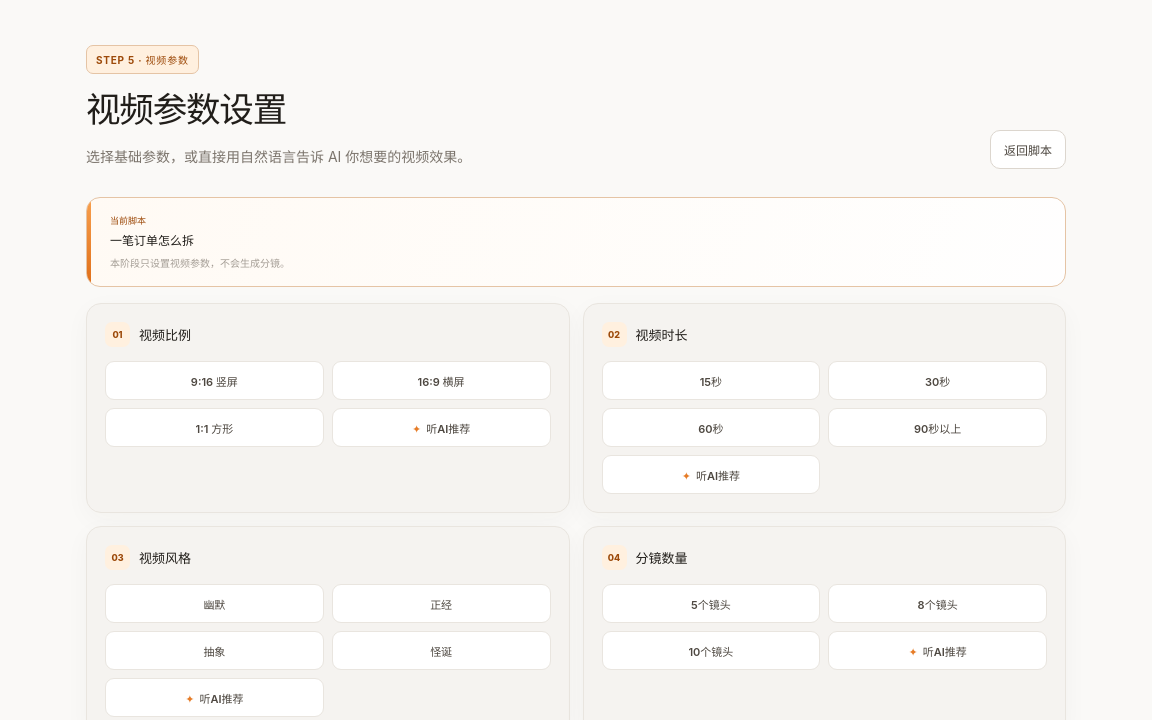
Test: AI 失败页面状态 › Step5 AI 推荐失败时不显示固定参数或采用成功
Click the button "✦听AI推荐" below "视频比例". click: (441, 428)
box: [332, 408, 551, 447]
(page scrolled)
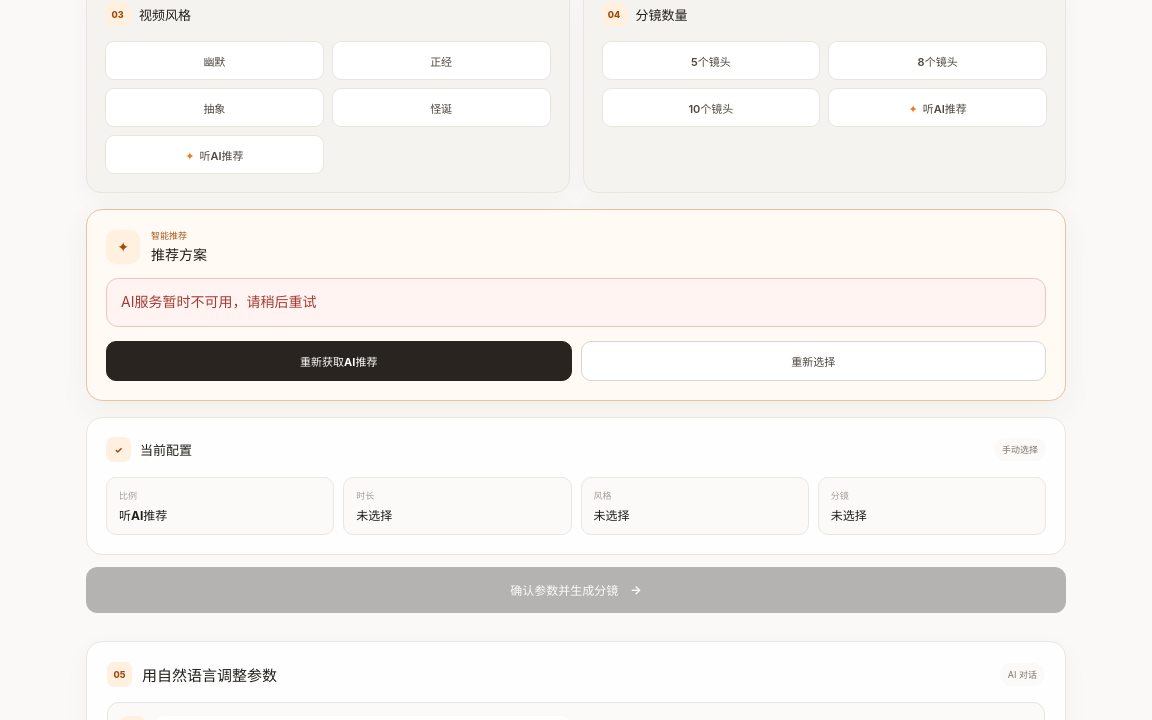
Expected: the message reads "AI服务暂时不可用，请稍后重试", [121, 293, 316, 310]
Expected: the button "重新获取AI推荐" is shown, [106, 341, 572, 381]
